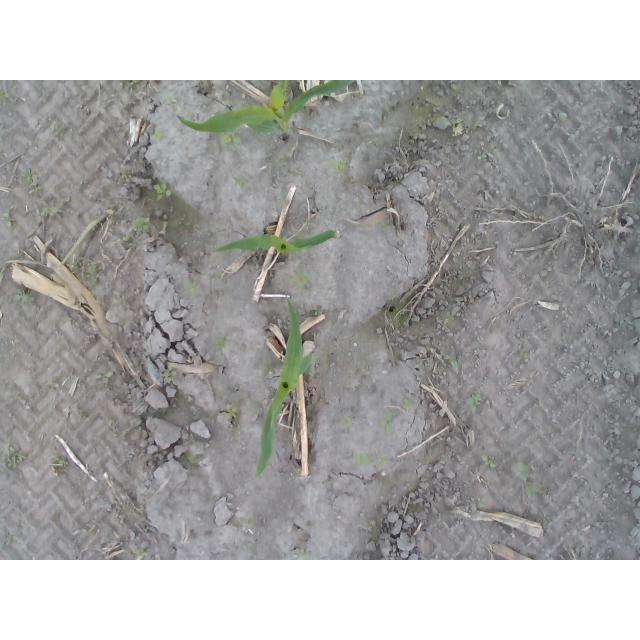Maize: (253, 296, 319, 480), (176, 81, 354, 136), (206, 227, 338, 258)
Weeds: (511, 462, 542, 498), (68, 254, 98, 286), (0, 442, 28, 470), (15, 168, 42, 193), (288, 271, 313, 298), (350, 450, 374, 471), (152, 182, 176, 202), (464, 391, 480, 417), (180, 277, 201, 296), (232, 173, 251, 193), (213, 335, 233, 354), (218, 131, 242, 146), (175, 219, 201, 232), (335, 159, 353, 177), (130, 216, 150, 232), (15, 289, 35, 305), (162, 366, 179, 384), (379, 414, 395, 433), (481, 455, 497, 474), (293, 548, 316, 561), (224, 404, 241, 421), (32, 207, 48, 225), (0, 88, 16, 106), (335, 416, 353, 431), (449, 351, 464, 369), (478, 148, 499, 160), (152, 128, 168, 142), (96, 370, 113, 383), (398, 399, 416, 411), (5, 534, 23, 546), (128, 80, 141, 96), (476, 495, 489, 511), (3, 207, 13, 226), (120, 169, 132, 184), (186, 456, 202, 467), (160, 95, 177, 105), (448, 116, 464, 126), (378, 454, 391, 466), (446, 310, 459, 322), (224, 91, 234, 105), (135, 549, 146, 559), (249, 81, 264, 88), (559, 111, 568, 122), (124, 234, 134, 242), (216, 272, 224, 280), (495, 80, 501, 88)
